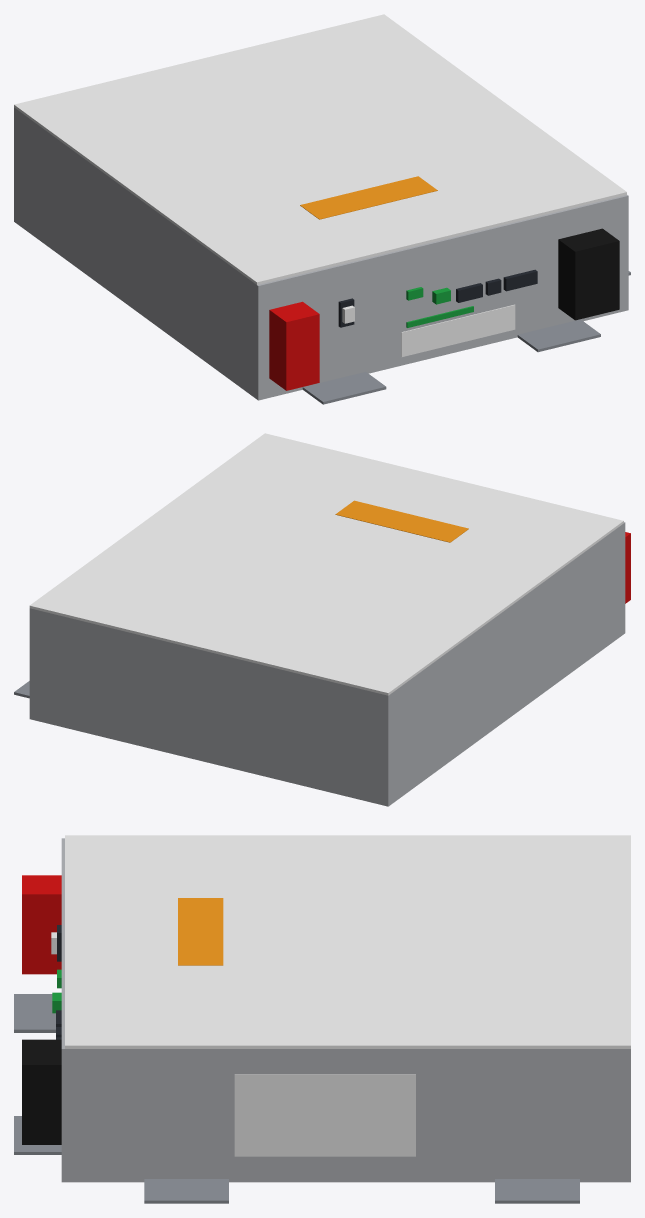
File: olitec-battery.obj
3 renders of one model, top to bottom at view 1: azimuth 30°, elevation 25°; view 2: azimuth 150°, elevation 25°; view 3: azimuth 270°, elevation 25°, orthographic. The views are drawn at different scales.
Parts seen in each view (by area): view 1: Top_Cover, Front_Panel, Enclosure_Body, Terminal_Black, Terminal_Red, Logo_Plate_Front, Logo_Top, Foot_Front_L, Foot_Front_R; view 2: Top_Cover, Enclosure_Body, Logo_Top; view 3: Top_Cover, Enclosure_Body, Rating_Label, Terminal_Black, Terminal_Red, Logo_Top, Foot_Side_Rear, Foot_Side_Mid, Foot_Front_L, Front_Panel, Foot_Front_R.
Part boxes in pixels (left/top/right/bottom): Top_Cover: left=14, top=14, right=626, bottom=284; Front_Panel: left=257, top=195, right=628, bottom=400; Enclosure_Body: left=14, top=107, right=256, bottom=399; Terminal_Black: left=558, top=228, right=619, bottom=320; Terminal_Red: left=269, top=301, right=319, bottom=390; Logo_Plate_Front: left=401, top=304, right=515, bottom=356; Logo_Top: left=300, top=176, right=437, bottom=219; Foot_Front_L: left=302, top=371, right=386, bottom=404; Foot_Front_R: left=517, top=319, right=600, bottom=352; Top_Cover: left=29, top=433, right=623, bottom=695; Enclosure_Body: left=29, top=523, right=623, bottom=806; Logo_Top: left=335, top=500, right=468, bottom=542; Top_Cover: left=65, top=835, right=630, bottom=1048; Enclosure_Body: left=65, top=1049, right=630, bottom=1182; Rating_Label: left=234, top=1074, right=415, bottom=1156; Terminal_Black: left=22, top=1039, right=61, bottom=1144; Terminal_Red: left=22, top=875, right=61, bottom=974; Logo_Top: left=178, top=898, right=223, bottom=965; Foot_Side_Rear: left=495, top=1179, right=579, bottom=1203; Foot_Side_Mid: left=144, top=1179, right=228, bottom=1203; Foot_Front_L: left=14, top=994, right=55, bottom=1032; Front_Panel: left=61, top=838, right=64, bottom=1182; Foot_Front_R: left=14, top=1116, right=61, bottom=1154.
Bounding box in the file's own units: 1.78 × 0.4899 × 2.
